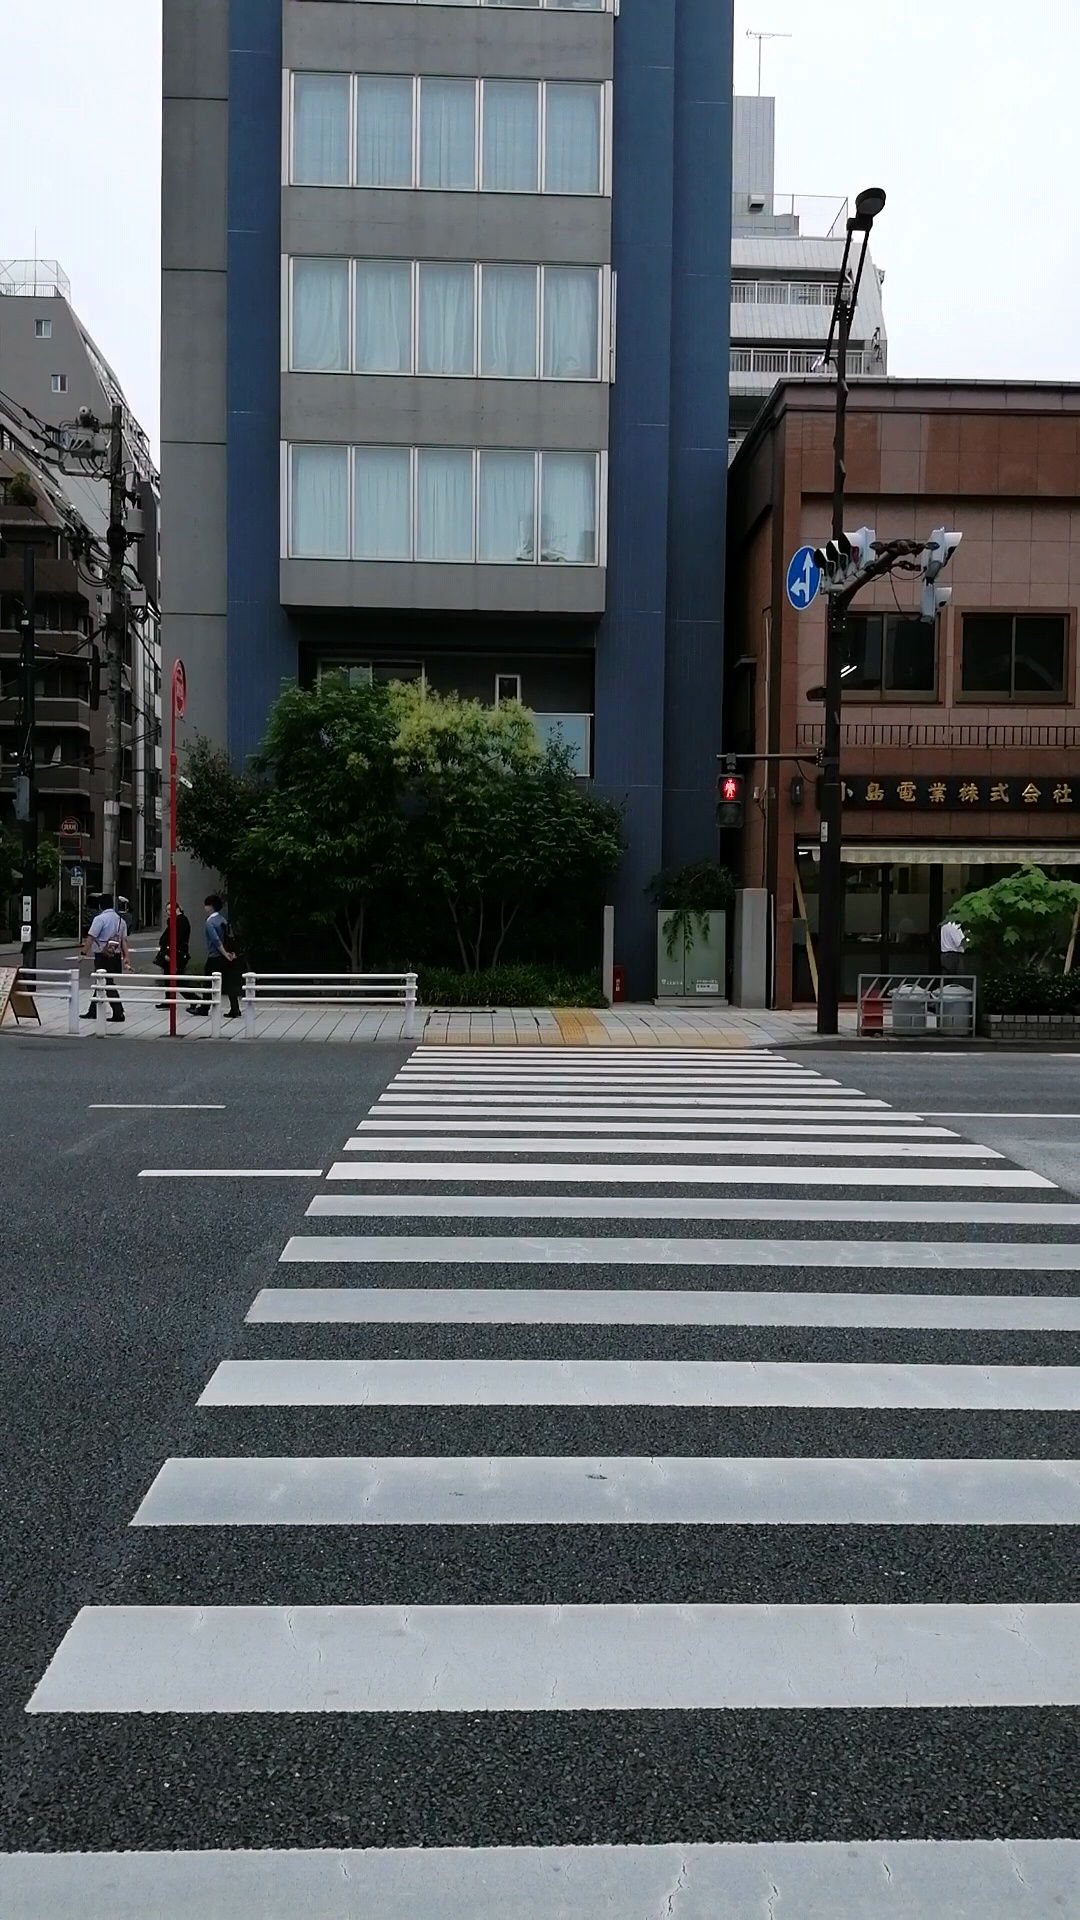red: (716, 774, 742, 825)
